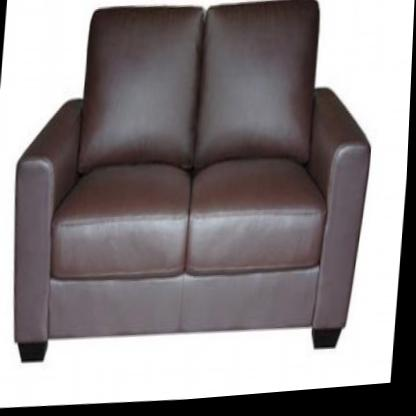Sofa: (4, 0, 386, 381)
